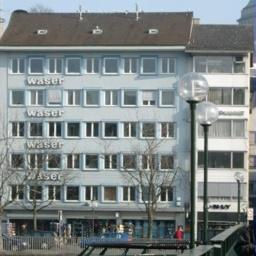building: (1, 0, 256, 243)
